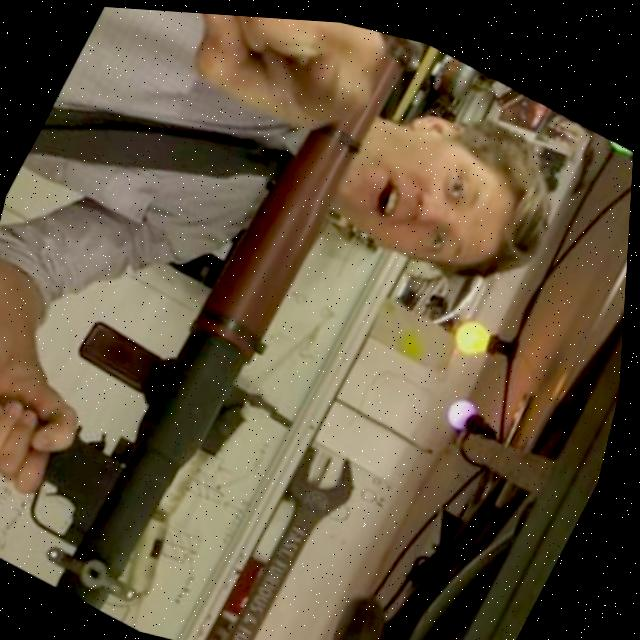rocket: (0, 16, 390, 640)
